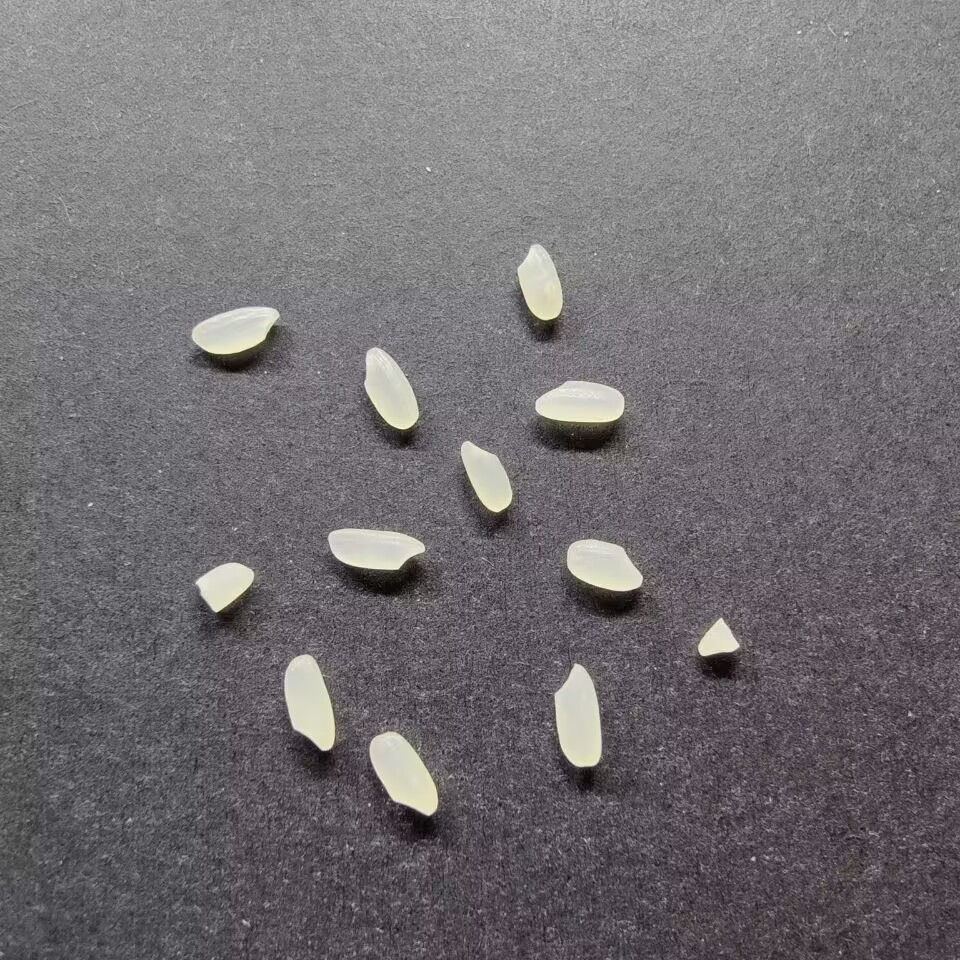broken: (192, 560, 257, 615), (694, 616, 742, 659)
rice: (366, 731, 441, 818), (553, 661, 612, 768), (282, 653, 337, 752), (359, 345, 420, 430), (189, 302, 281, 355), (322, 527, 429, 572), (563, 537, 646, 593), (459, 440, 516, 515), (533, 379, 629, 423), (515, 242, 566, 320)
